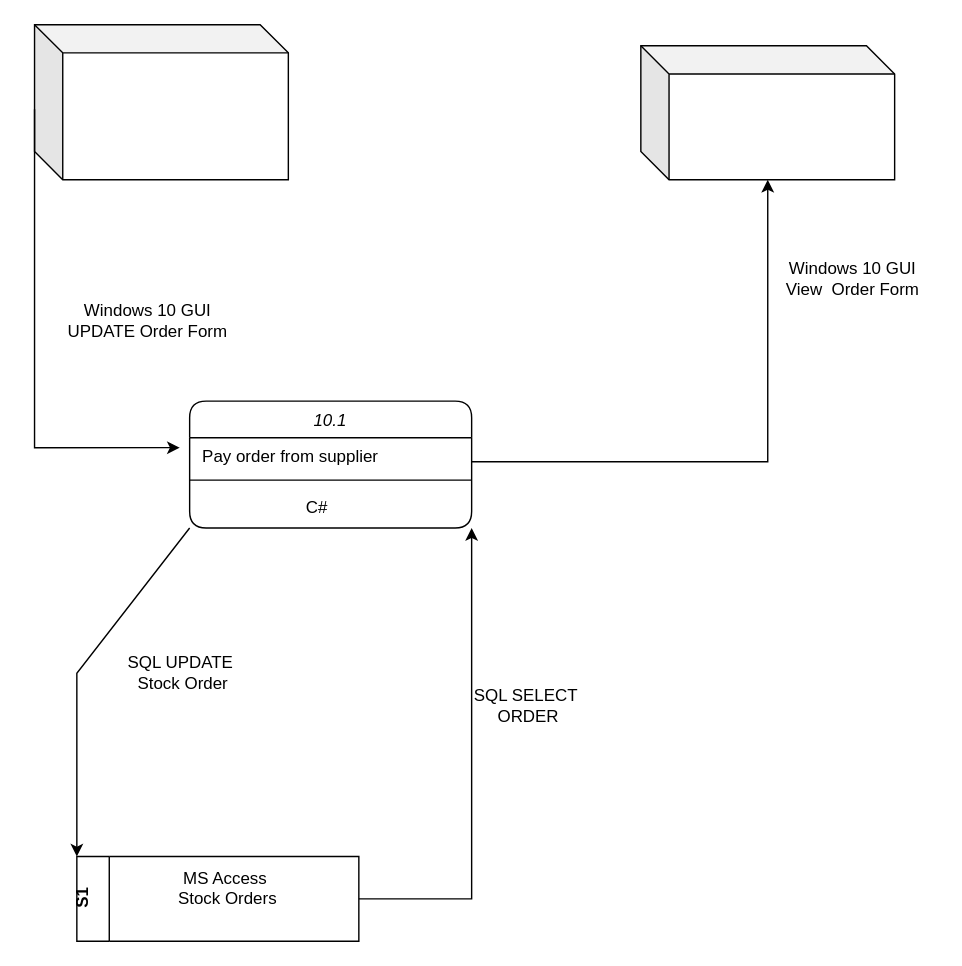
This 962x966 diagram has some shape labels left out. The shapes that lost their labels are listed below. From the top down, each one's box as (x1, y1, x2, y2) in pixels, then its label:
(33, 23, 288, 180): Manager
(639, 44, 895, 180): Supplier
